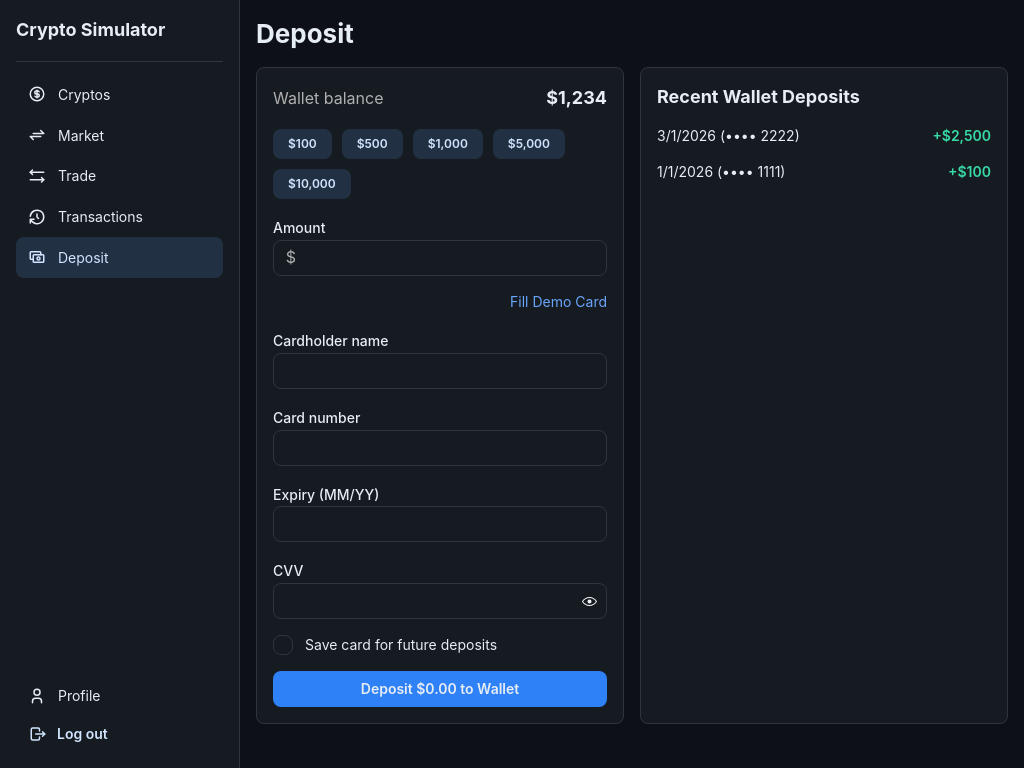
Test: DepositPage › fills the amount from a preset button and shows the balance
This screenshot has width=1024, height=768.
Expected: the text "$1,234" is shown, top-left (546, 84), bottom-right (607, 113)
Click the button "$500". click: (372, 144)
box: top-left (342, 129), bottom-right (403, 159)
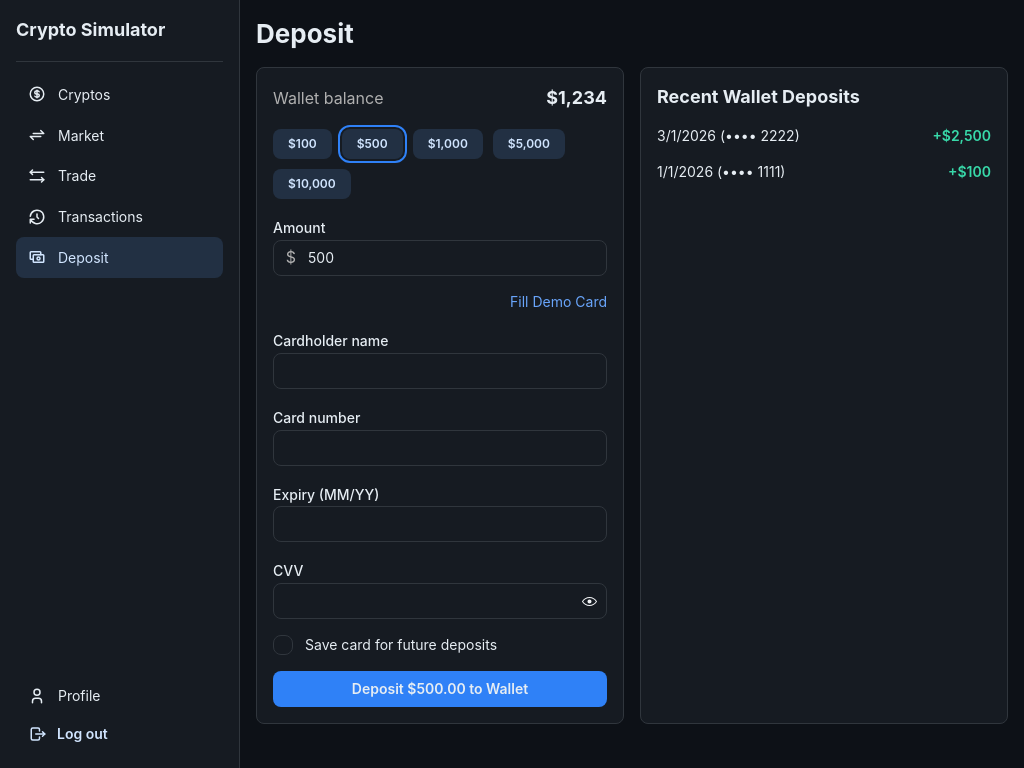
Expected: the field labelled "Amount" holds "500", top-left (273, 240), bottom-right (607, 276)
Expected: the button "Deposit $500.00 to Wallet" is shown, top-left (273, 671), bottom-right (607, 707)
